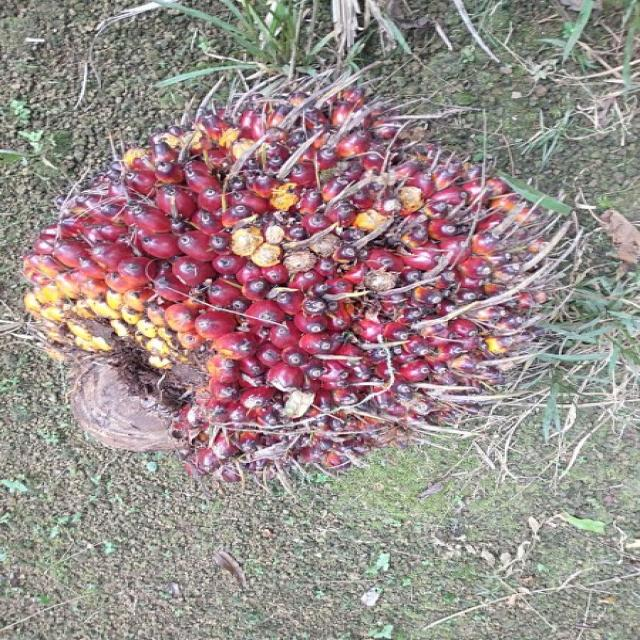fraksi 1: (0, 52, 602, 539)
